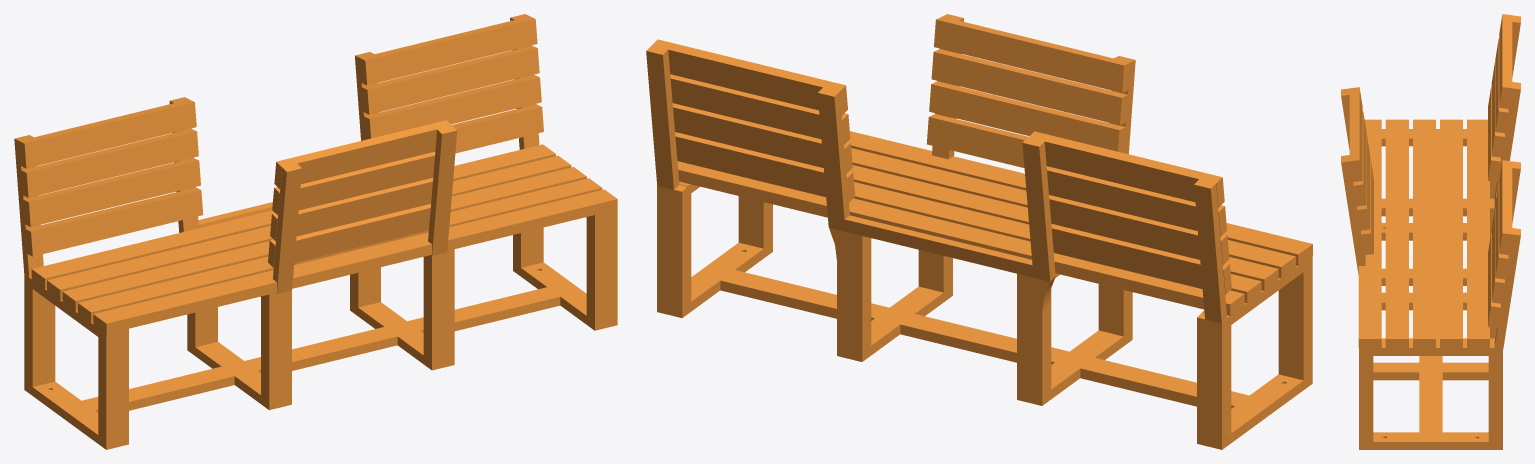
3 renders of one model, left to right at view 1: azimuth 30°, elevation 25°; view 2: azimuth 150°, elevation 25°; view 3: azimuth 270°, elevation 25°, orthographic. The views are drawn at different scales.
Parts seen in each view (by area): view 1: Body5, Body10, Body1 (×3), Body3 (×2), Body2 (×2), Body4 (×2), Body8, Body9, Body7, Body6, Body16, Body14 (+1 smaller); view 2: Body5, Body1 (×3), Body3 (×2), Body2 (×2), Body9, Body4 (×2), Body16, Body10, Body8, Body6, Body7, Body11 (+1 smaller); view 3: Body5, Body8, Body6, Body7, Body9, Body10, Body3 (×2), Body1 (×3), Body2 (×2), Body4 (×2), Body14, Body11 (+2 smaller).
Boxes of the visible parts, x1,y1,x2,y2 form: Body5: (19, 52, 617, 449); Body10: (93, 189, 617, 333); Body1 (×3): (14, 45, 539, 277); Body3 (×2): (274, 16, 537, 188); Body2 (×2): (270, 75, 541, 241); Body4 (×2): (268, 104, 543, 267); Body8: (78, 178, 602, 322); Body9: (31, 144, 555, 288); Body7: (47, 155, 571, 300); Body6: (62, 167, 586, 311); Body16: (23, 158, 200, 226); Body14: (428, 125, 457, 244); Body5: (656, 87, 1312, 449); Body1 (×3): (670, 49, 1227, 323); Body3 (×2): (652, 16, 1130, 115); Body2 (×2): (672, 81, 1125, 173); Body9: (677, 161, 1244, 315); Body4 (×2): (675, 114, 1028, 202); Body16: (1049, 195, 1229, 265); Body10: (847, 131, 1312, 265); Body8: (851, 148, 1295, 278); Body6: (849, 165, 1278, 290); Body7: (854, 182, 1261, 303); Body11: (646, 45, 678, 177); Body5: (1357, 14, 1520, 449); Body8: (1385, 119, 1408, 347); Body6: (1413, 119, 1435, 347); Body7: (1440, 119, 1462, 347); Body9: (1467, 119, 1489, 347); Body10: (1358, 119, 1381, 347); Body3 (×2): (1349, 87, 1512, 254); Body1 (×3): (1353, 15, 1520, 279); Body2 (×2): (1357, 136, 1504, 303); Body4 (×2): (1361, 160, 1500, 328); Body14: (1341, 155, 1365, 265); Body11: (1496, 228, 1520, 338).
Size of the model in its own units: 1801 by 830 by 624.
